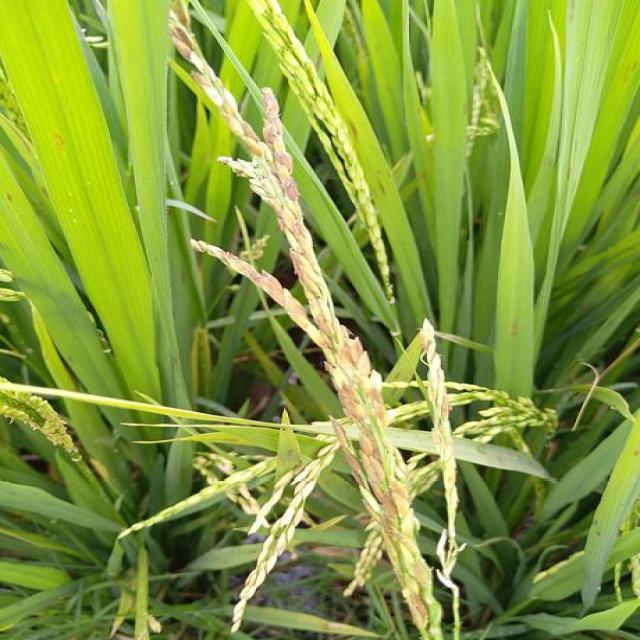Panicle Blight: (170, 0, 431, 632), (417, 320, 452, 463)
